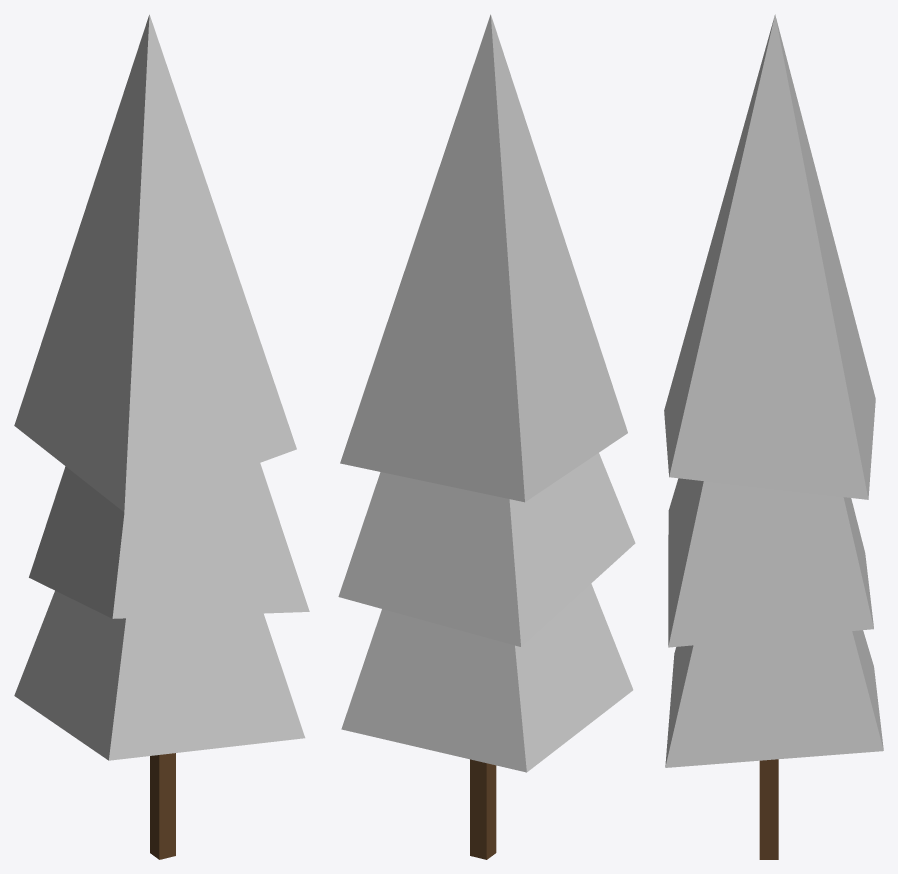
File: tree16.fbx
3 views of the same model, side by side, from view 1: azimuth 30°, elevation 25°; view 2: azimuth 150°, elevation 25°; view 3: azimuth 270°, elevation 25° (orthographic).
Parts seen in each view (by area): view 1: Cube.060; view 2: Cube.060; view 3: Cube.060.
Boxes of the visible parts, x1,y1,x2,y2 form: Cube.060: (14, 14, 309, 859); Cube.060: (338, 14, 635, 859); Cube.060: (664, 14, 883, 859).
Bounding box in the file's own units: 180 × 729 × 174.
